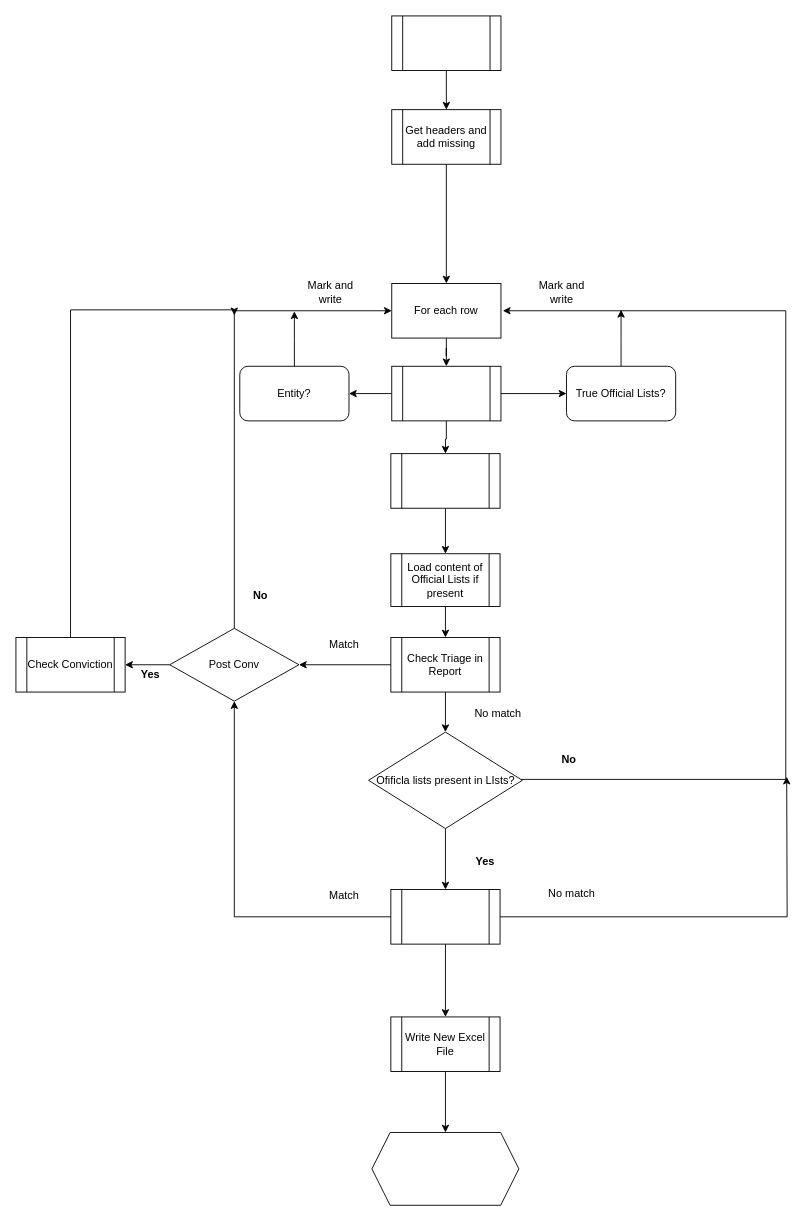
The diagram is 811 pixels wide and 1221 high, and some of its shapes have lost their labels. Each missing label, with the box of its shape:
Check Triage in OffLists: (390, 889, 500, 944)
Open Excel: (391, 15, 501, 71)
Saparate Spreadsheet in Tabs: (371, 1132, 519, 1205)
Separate categories: (391, 365, 501, 421)
Tag Pre Conv or Post Conv (Crime category: (390, 453, 500, 508)
